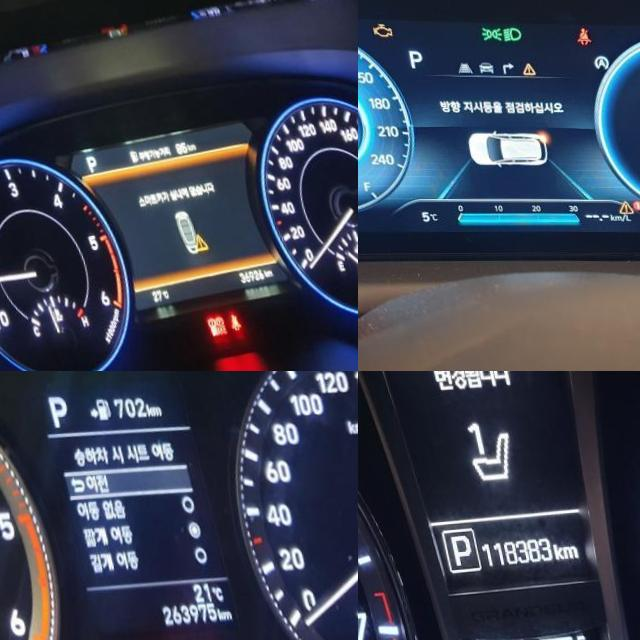Central Warning lamp: (512, 62, 529, 76)
LaneCenteringOff: (448, 62, 465, 75)
Low beam: (495, 26, 516, 43)
SideLamp: (473, 26, 496, 42)
